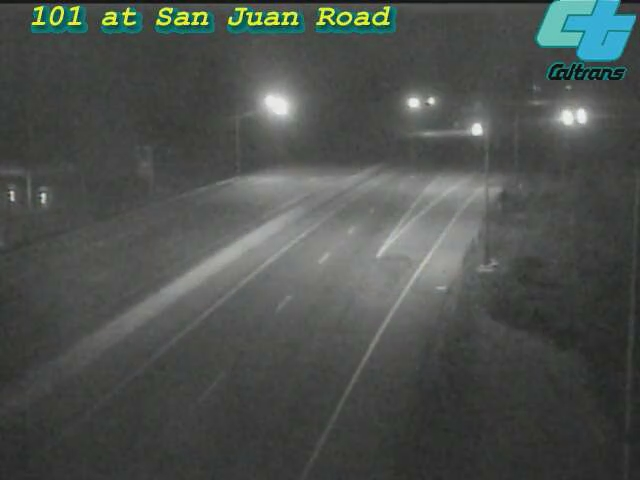vehicle: (453, 105, 503, 155), (539, 94, 589, 144), (555, 91, 605, 141)
